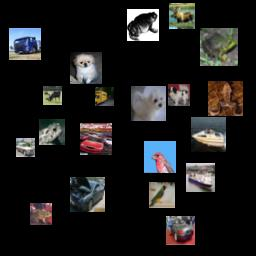automobile: (70, 177, 105, 212), (80, 123, 112, 155), (166, 216, 195, 245), (16, 138, 35, 157)
bird: (144, 141, 176, 173), (149, 182, 175, 208)
deer: (169, 3, 195, 29), (43, 86, 62, 105)
dog: (131, 86, 166, 121), (70, 52, 102, 84), (168, 84, 190, 106)
frog: (200, 28, 238, 66), (208, 81, 243, 116), (127, 9, 159, 41), (39, 119, 65, 145), (30, 203, 52, 225)
ship: (191, 117, 226, 152), (186, 163, 215, 192)
truck: (9, 28, 41, 60), (95, 87, 114, 106)
